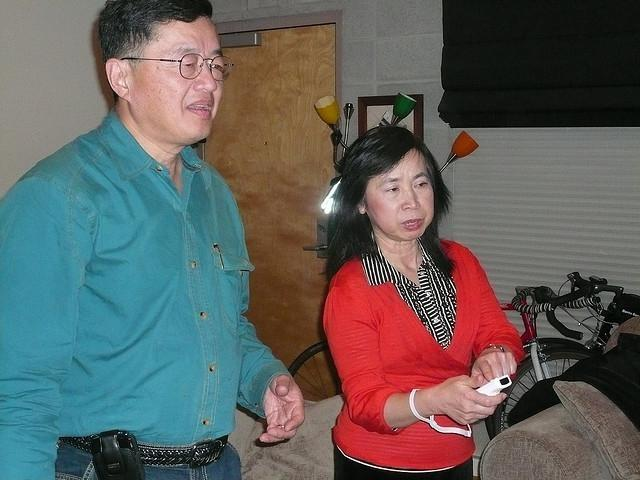bicycle: (286, 283, 558, 405), (490, 278, 640, 439)
